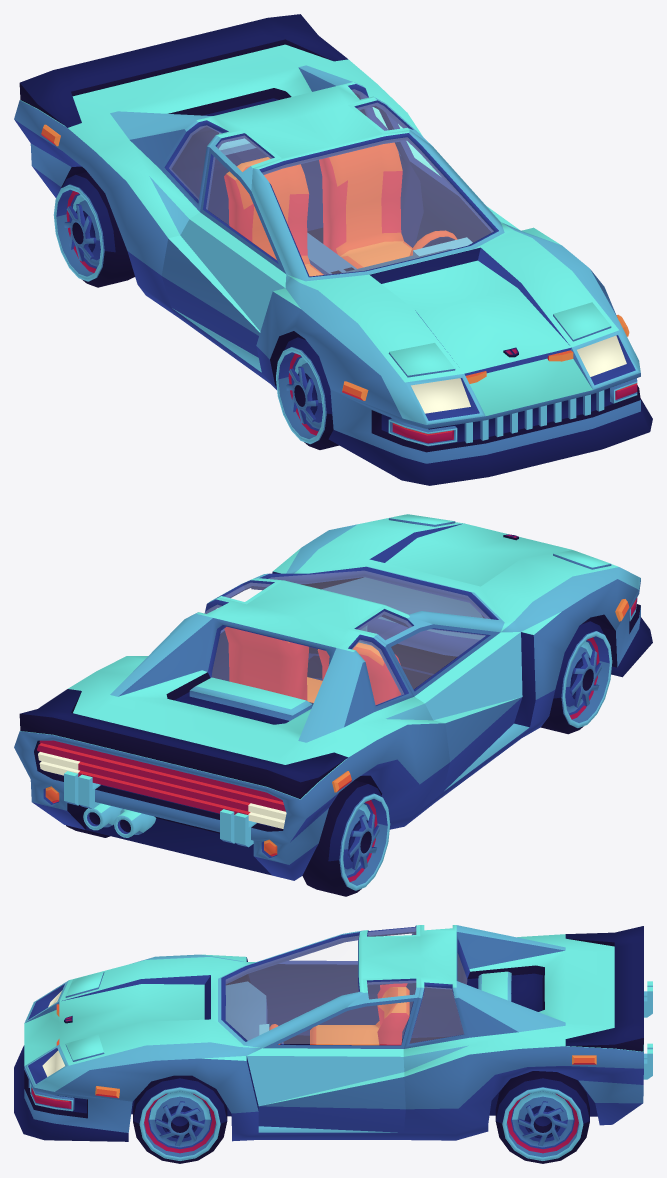
Rendered from car.glb.
The picture shows the model from 3 angles, top to bottom: view 1: azimuth 30°, elevation 25°; view 2: azimuth 150°, elevation 25°; view 3: azimuth 270°, elevation 25°; orthographic projection. The views are drawn at different scales.
Visible parts, largest first — view 1: CarBody, Doors, CarBumper, Wheel_BR, Wheel_FR; view 2: CarBody, Doors, Wheel_BR, Wheel_FR, CarBumper; view 3: CarBody, Doors, Wheel_BL, Wheel_FL, CarBumper.
Boxes of the visible parts, x1=… form: CarBody: x1=14, y1=14, x2=640, y2=424; Doors: x1=161, y1=98, x2=520, y2=357; CarBumper: x1=328, y1=373, x2=652, y2=485; Wheel_BR: x1=53, y1=172, x2=134, y2=287; Wheel_FR: x1=276, y1=336, x2=338, y2=449; CarBody: x1=14, y1=514, x2=640, y2=880; Doors: x1=211, y1=579, x2=522, y2=791; Wheel_BR: x1=302, y1=780, x2=390, y2=896; Wheel_FR: x1=541, y1=620, x2=612, y2=734; CarBumper: x1=601, y1=578, x2=652, y2=677; CarBody: x1=24, y1=925, x2=652, y2=1141; Doors: x1=247, y1=925, x2=420, y2=1132; Wheel_BL: x1=495, y1=1071, x2=589, y2=1163; Wheel_FL: x1=133, y1=1075, x2=227, y2=1163; CarBumper: x1=14, y1=1045, x2=132, y2=1141.
Size of the model in its own units: 1.33 by 0.8045 by 3.03.
Materials: 2 (1 with a texture image).
